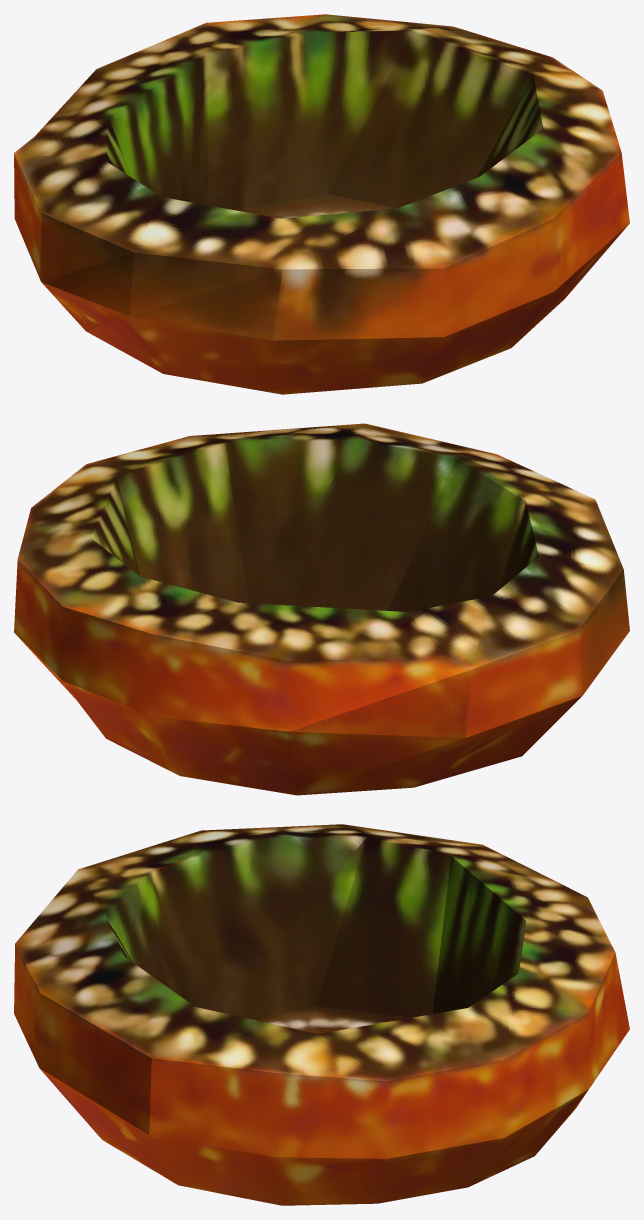
File: diya_color_03.glb
The picture shows the model from 3 angles, top to bottom: view 1: azimuth 30°, elevation 25°; view 2: azimuth 150°, elevation 25°; view 3: azimuth 270°, elevation 25°; orthographic projection. The views are drawn at different scales.
Visible parts, largest first — view 1: diya_mesh; view 2: diya_mesh; view 3: diya_mesh.
Boxes of the visible parts, x1,y1,x2,y2 form: diya_mesh: (14, 14, 629, 394); diya_mesh: (14, 423, 629, 795); diya_mesh: (14, 824, 629, 1205).
Bounding box in the file's own units: 0.2588 × 0.0776 × 0.249.
1 material, 1 textured.
